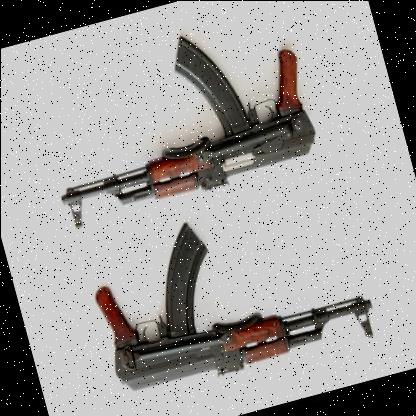rifle: (71, 177, 386, 416), (27, 3, 338, 239)
